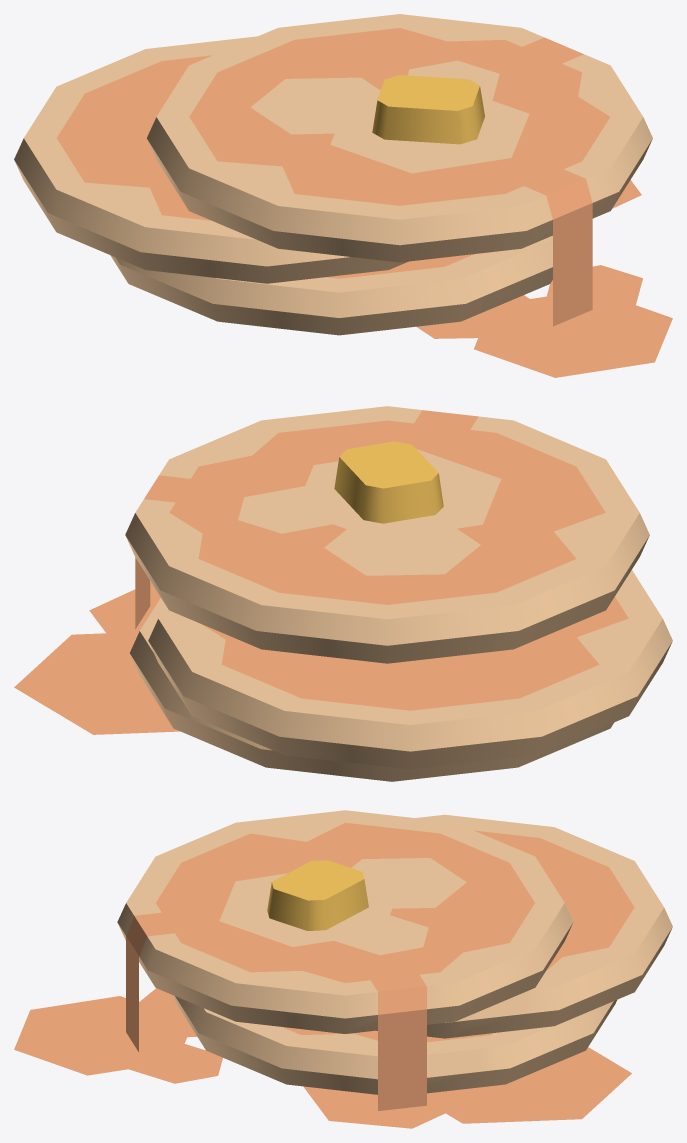
The model's file is pancakes.obj.
3 views of the same model, one above another, from view 1: azimuth 30°, elevation 25°; view 2: azimuth 150°, elevation 25°; view 3: azimuth 270°, elevation 25° (orthographic). The views are drawn at different scales.
Visible parts, largest first — view 1: pancake, pancakes, butter; view 2: pancake, pancakes, butter; view 3: pancake, pancakes, butter.
Boxes of the visible parts, box(x1,y1,x2,y2) form: pancake: box(14, 14, 652, 335); pancakes: box(416, 180, 672, 377); butter: box(372, 75, 484, 144); pancake: box(125, 406, 672, 781); pancakes: box(14, 582, 180, 734); butter: box(334, 441, 443, 523); pancake: box(117, 810, 672, 1110); pancakes: box(14, 988, 631, 1128); butter: box(267, 860, 368, 930).
Bounding box in the file's own units: 0.4355 × 0.1216 × 0.5039.
